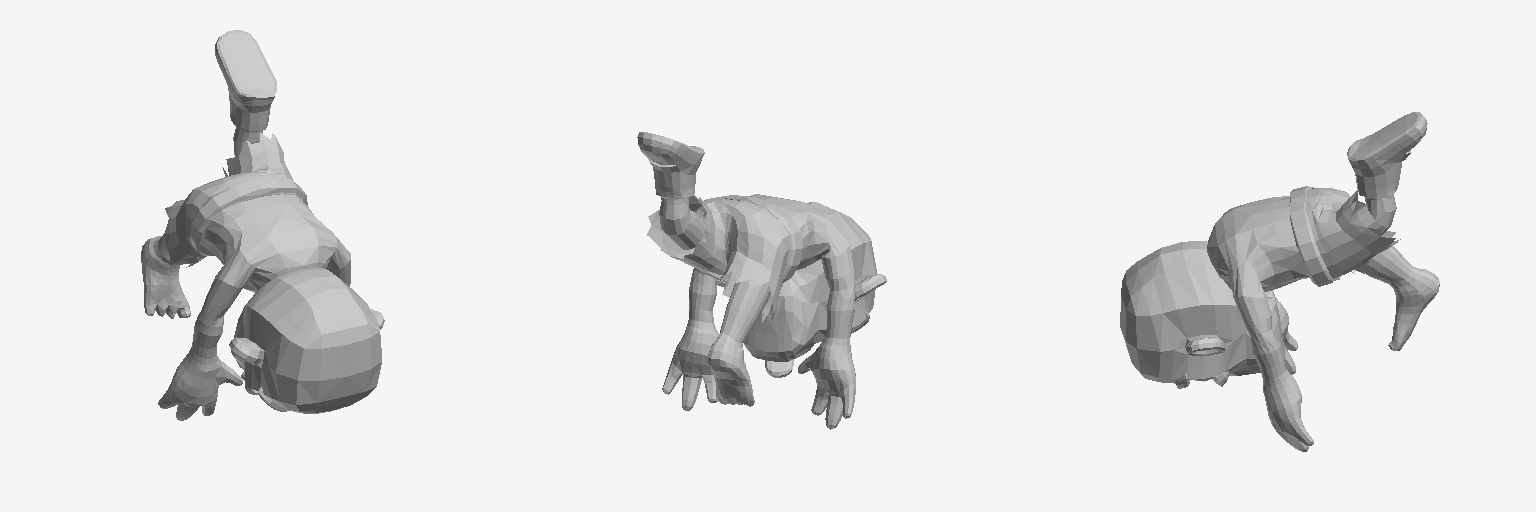
Rendered from ZombieRun0003.obj.
3 views of the same model, side by side, from view 1: azimuth 30°, elevation 25°; view 2: azimuth 150°, elevation 25°; view 3: azimuth 270°, elevation 25° (orthographic).
Visible parts, largest first — view 1: Zombie; view 2: Zombie; view 3: Zombie.
Boxes of the visible parts, x1,y1,x2,y2 form: Zombie: [141, 30, 384, 420]; Zombie: [637, 132, 886, 429]; Zombie: [1120, 112, 1439, 451].
Bounding box in the file's own units: 3.07 × 5.29 × 4.72.